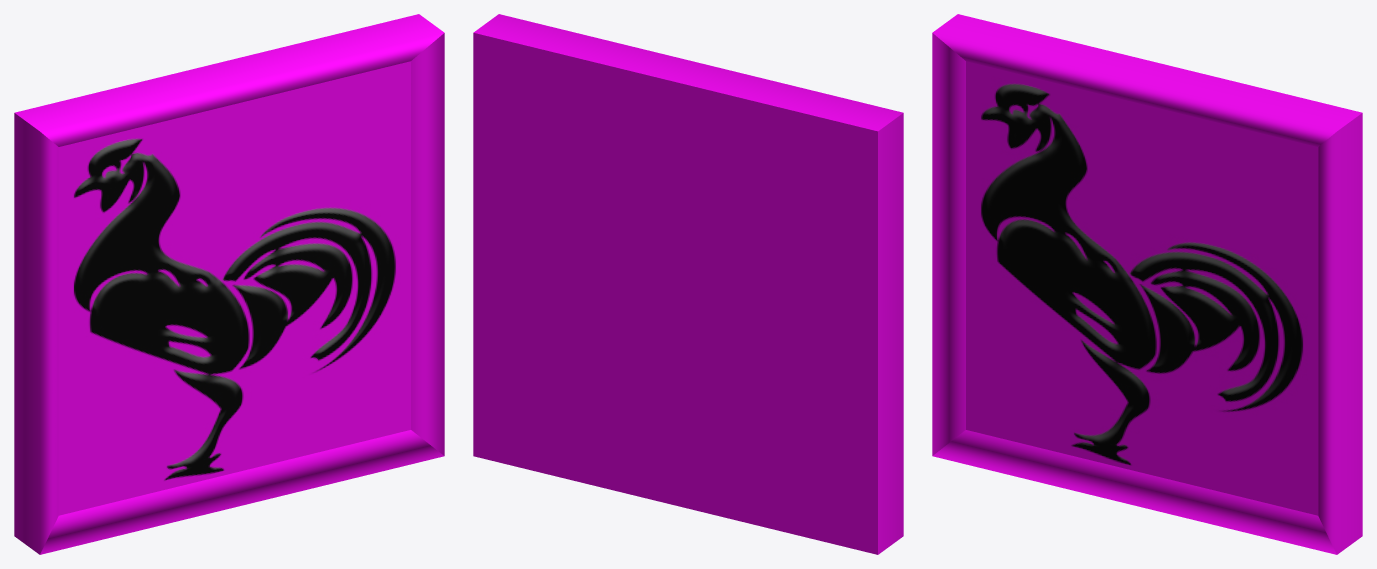
The model's file is Pink Rooster.fbx.
3 renders of one model, left to right at view 1: azimuth 30°, elevation 25°; view 2: azimuth 150°, elevation 25°; view 3: azimuth 330°, elevation 25°, orthographic.
Parts seen in each view (by area): view 1: pCube1; view 2: pCube1; view 3: pCube1.
Part boxes in pixels (x1,y1,x2,y2): pCube1: (14, 14, 444, 554); pCube1: (473, 14, 903, 554); pCube1: (932, 14, 1362, 554).
Size of the model in its own units: 3 by 3 by 0.3283.
1 material, 1 textured.
